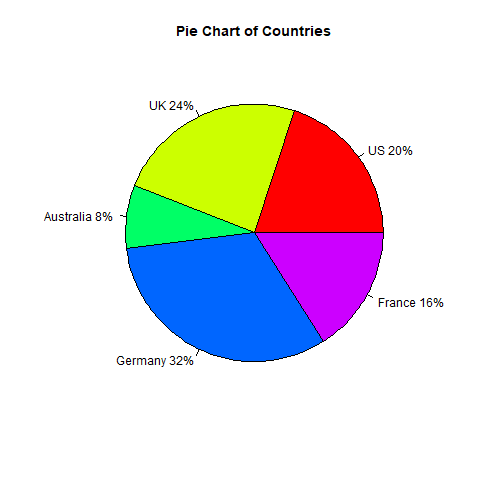

This screenshot's page, from the dashboard's own definition file:
{"tool":"powerbi","page":{"name":"Página 1","canvas":[1280,720],"ordinal":0},"visuals":[{"type":"pieChart","fields":{"Y":["Sum(Data Frame.Column1)"],"Category":["Data Frame.Column4"],"Series":["Data Frame.Col2"]},"box":[352.8,87.3,808,473.7],"z":0}]}

Visuals, with their boxes on the page's 1280x720 design canvas (x1, y1, x2, y2). These are canvas units, not pixel positions in the 480x480 screenshot, which may show the page scaled, cropped or inside an application window:
pieChart - Sum(Data Frame.Column1) x Data Frame.Column4: select_region(353, 87, 1161, 561)
